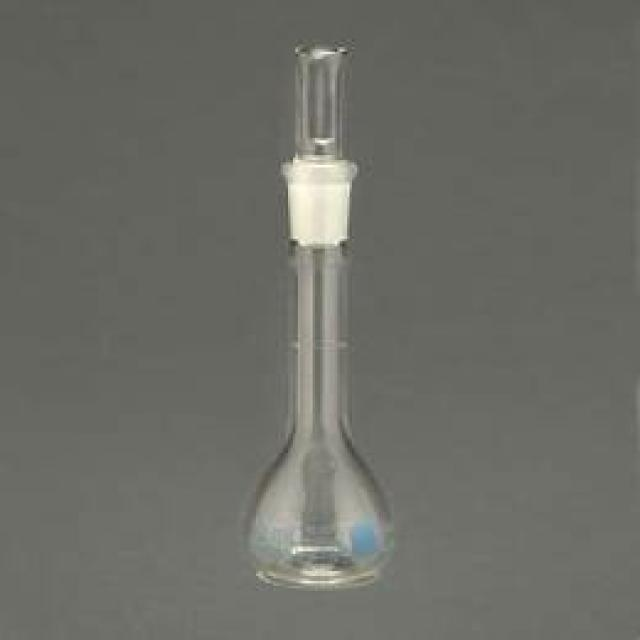Volumetric flask: (239, 26, 395, 590)
